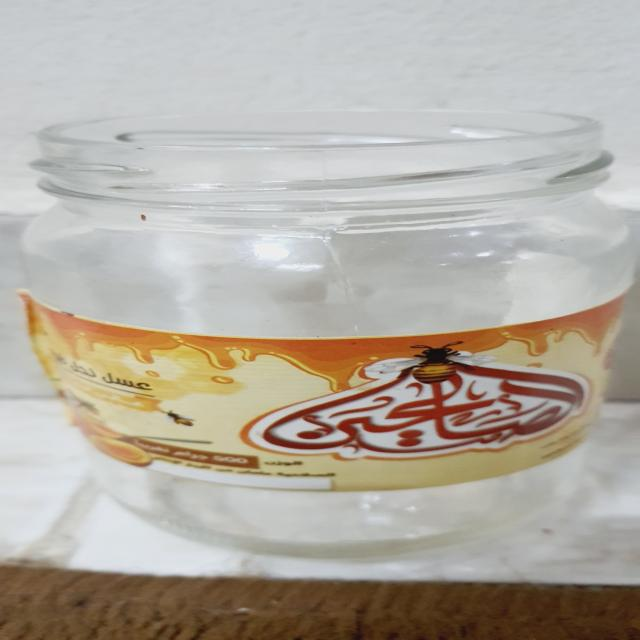glass: (16, 108, 637, 561)
